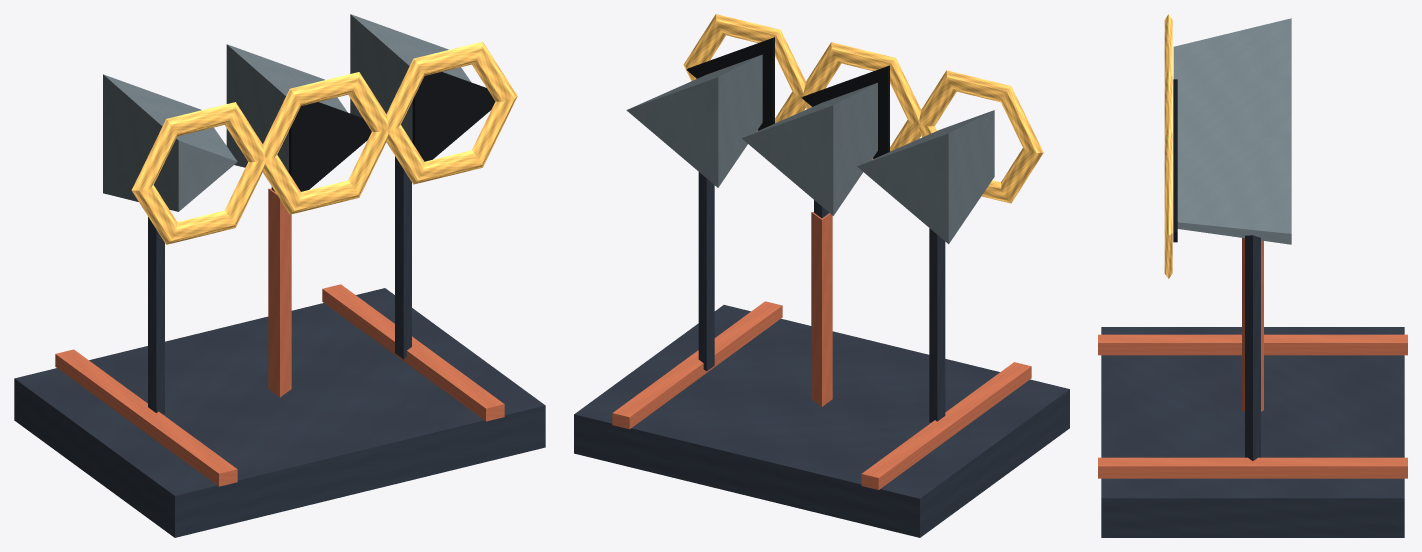
Rendered from atlas100-s024-a01.lod2.glb.
3 views of the same model, side by side, from view 1: azimuth 30°, elevation 25°; view 2: azimuth 150°, elevation 25°; view 3: azimuth 270°, elevation 25° (orthographic). The views are drawn at different scales.
Parts seen in each view (by area): view 1: atlas100-s024-a01:part-000, atlas100-s024-a01:part-006, atlas100-s024-a01:part-008, atlas100-s024-a01:part-016, atlas100-s024-a01:part-012, atlas100-s024-a01:part-001, atlas100-s024-a01:part-010, atlas100-s024-a01:part-002, atlas100-s024-a01:part-014, atlas100-s024-a01:part-015, atlas100-s024-a01:part-011, atlas100-s024-a01:part-003 (+2 smaller); view 2: atlas100-s024-a01:part-000, atlas100-s024-a01:part-006, atlas100-s024-a01:part-014, atlas100-s024-a01:part-010, atlas100-s024-a01:part-008, atlas100-s024-a01:part-001, atlas100-s024-a01:part-002, atlas100-s024-a01:part-003, atlas100-s024-a01:part-016, atlas100-s024-a01:part-012, atlas100-s024-a01:part-013, atlas100-s024-a01:part-005 (+2 smaller); view 3: atlas100-s024-a01:part-000, atlas100-s024-a01:part-014, atlas100-s024-a01:part-002, atlas100-s024-a01:part-006, atlas100-s024-a01:part-010, atlas100-s024-a01:part-001, atlas100-s024-a01:part-013, atlas100-s024-a01:part-016, atlas100-s024-a01:part-003, atlas100-s024-a01:part-015, atlas100-s024-a01:part-008, atlas100-s024-a01:part-012.
Part boxes in pixels (x1,y1,x2,y2): atlas100-s024-a01:part-000: (14,288,545,537); atlas100-s024-a01:part-006: (103,74,237,211); atlas100-s024-a01:part-008: (131,102,266,244); atlas100-s024-a01:part-016: (386,41,517,184); atlas100-s024-a01:part-012: (263,72,389,214); atlas100-s024-a01:part-001: (55,349,237,486); atlas100-s024-a01:part-010: (226,44,347,172); atlas100-s024-a01:part-002: (322,284,504,421); atlas100-s024-a01:part-014: (350,14,470,142); atlas100-s024-a01:part-015: (412,72,495,161); atlas100-s024-a01:part-011: (289,102,371,191); atlas100-s024-a01:part-003: (268,188,291,397); atlas100-s024-a01:part-000: (574,305,1069,537); atlas100-s024-a01:part-006: (857,110,994,244); atlas100-s024-a01:part-014: (626,54,762,187); atlas100-s024-a01:part-010: (742,82,877,215); atlas100-s024-a01:part-008: (919,70,1043,203); atlas100-s024-a01:part-001: (861,362,1031,489); atlas100-s024-a01:part-002: (612,301,782,429); atlas100-s024-a01:part-003: (811,212,832,406); atlas100-s024-a01:part-016: (683,14,805,131); atlas100-s024-a01:part-012: (802,42,920,159); atlas100-s024-a01:part-013: (698,172,714,371); atlas100-s024-a01:part-005: (929,228,945,422); atlas100-s024-a01:part-000: (1101,327,1404,537); atlas100-s024-a01:part-014: (1177,132,1291,244); atlas100-s024-a01:part-002: (1098,457,1407,478); atlas100-s024-a01:part-006: (1173,18,1291,102); atlas100-s024-a01:part-010: (1177,75,1291,159); atlas100-s024-a01:part-001: (1098,334,1407,355); atlas100-s024-a01:part-013: (1245,235,1260,460); atlas100-s024-a01:part-016: (1164,128,1172,278); atlas100-s024-a01:part-003: (1242,238,1263,411); atlas100-s024-a01:part-015: (1173,136,1177,242); atlas100-s024-a01:part-008: (1164,14,1172,76); atlas100-s024-a01:part-012: (1164,71,1172,133).
Size of the model in its own units: 2.5 by 2.39 by 1.84.
5 materials, 5 textured.
